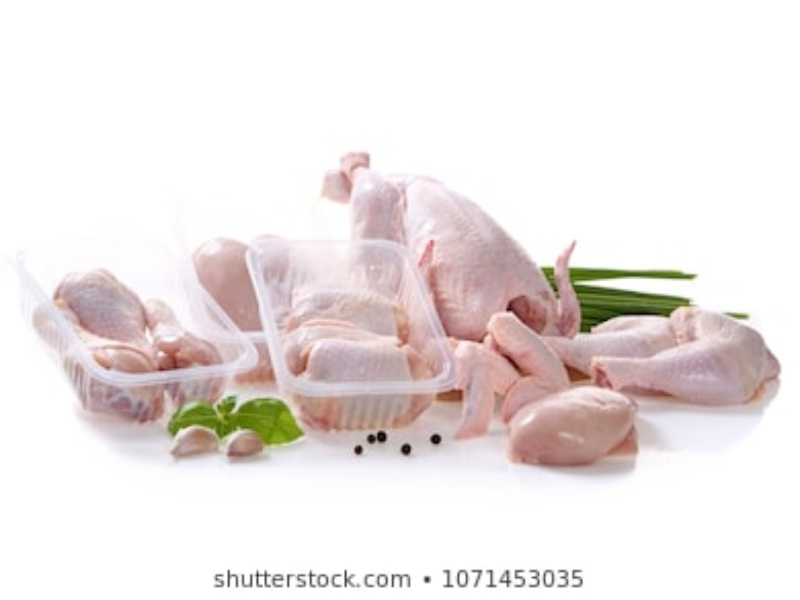plastic-container: (10, 236, 269, 430), (251, 223, 464, 426)
